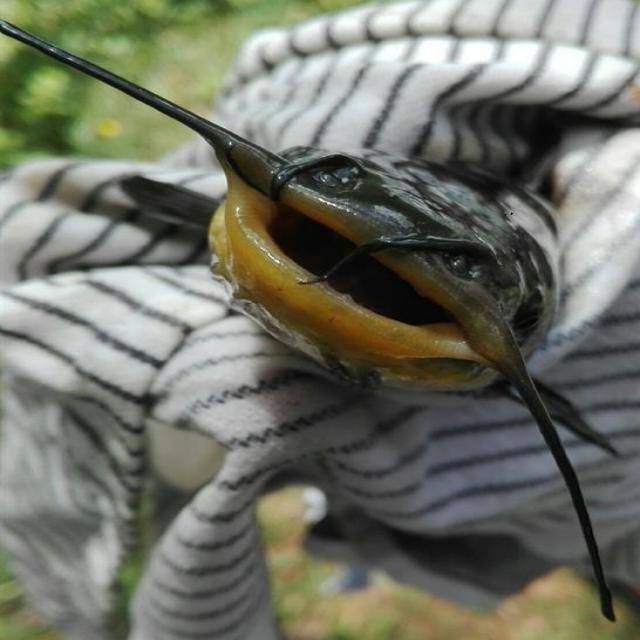Catfish: (0, 17, 639, 627)
